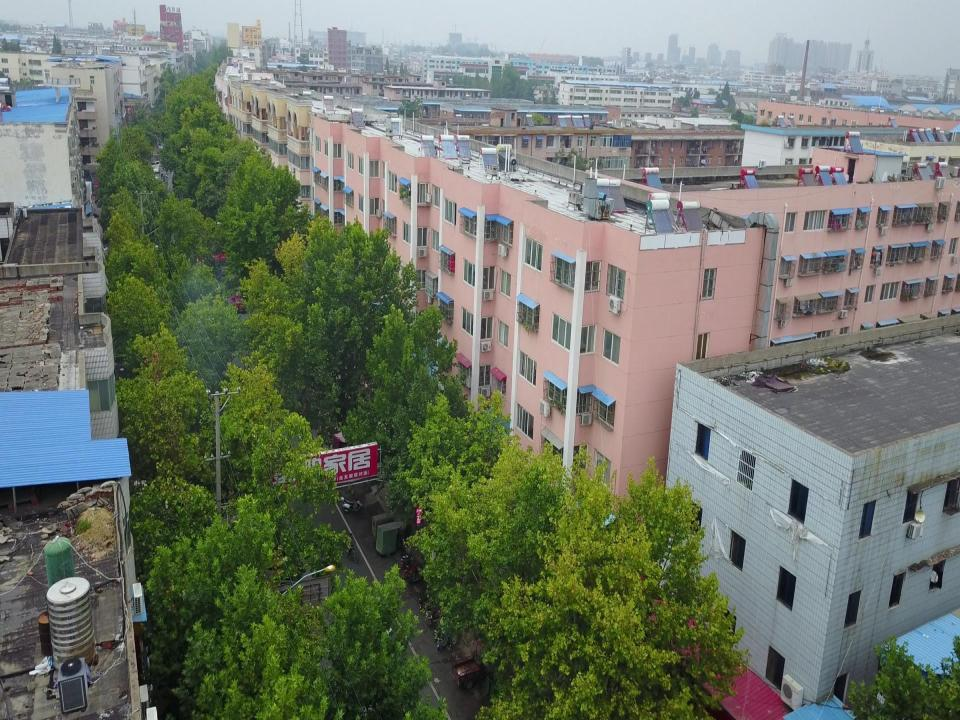car: (227, 286, 255, 316)
